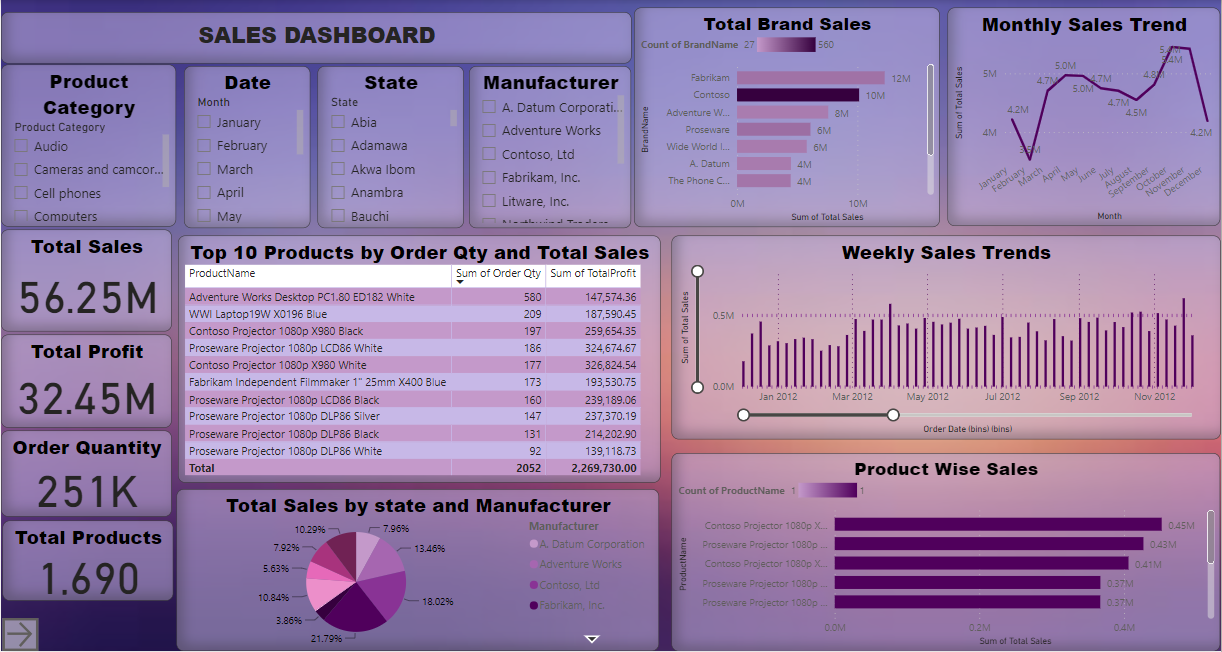

This screenshot's page, from the dashboard's own definition file:
{"tool":"powerbi","page":{"name":"Sales Dashboard with Navigator","canvas":[1500,800],"ordinal":0},"visuals":[{"type":"card","title":"Total Sales","fields":{"Values":["Sum(SalesData.Total Sales)"]},"box":[0,282.6,210.2,125.4],"z":0},{"type":"card","title":"Total Profit","fields":{"Values":["Sum(SalesData.TotalProfit)"]},"box":[0,411.5,210.2,114.8],"z":1000},{"type":"card","title":"Order Quantity ","fields":{"Values":["Sum(SalesData.Order Qty)"]},"box":[0,529.8,210.2,106],"z":2000},{"type":"card","title":"Total Products","fields":{"Values":["CountNonNull(SalesProduct.ProductName)"]},"box":[1.8,639.3,210.2,98.9],"z":3000},{"type":"textbox","box":[0,14.1,775.3,63.6],"z":4000},{"type":"lineChart","title":"Monthly Sales Trend","fields":{"Category":["SalesData.Order Date.Variation.Date Hierarchy.Month"],"Y":["Sum(SalesData.Total Sales)"]},"box":[1163.8,8.8,335.5,268.4],"z":5000},{"type":"lineStackedColumnComboChart","title":"Weekly Sales Trends","fields":{"Category":["SalesData.Order Date (bins) (bins)"],"Y":["Sum(SalesData.Total Sales)"]},"box":[824.4,289.6,675,250.8],"z":6000},{"type":"pivotTable","title":"Top 10 Products by Order Qty and Total Sales","fields":{"Rows":["SalesProduct.ProductName"],"Values":["Sum(SalesData.Order Qty)","Sum(SalesData.TotalProfit)"]},"box":[217.2,289.6,593.4,303.8],"z":7000},{"type":"barChart","title":"Product Wise Sales","fields":{"Category":["SalesProduct.ProductName"],"Y":["Sum(SalesData.Total Sales)"]},"box":[824.7,556.3,674.6,243.7],"z":8000},{"type":"barChart","title":"Total Brand Sales","fields":{"Category":["SalesProduct.BrandName"],"Y":["Sum(SalesData.Total Sales)"]},"box":[778.8,8.8,376.2,270.2],"z":9000},{"type":"slicer","title":"Date","fields":{"Values":["SalesData.Order Date.Variation.Date Hierarchy.Month"]},"box":[224.3,81.2,155.4,199.6],"z":10000},{"type":"slicer","title":"Product Category","fields":{"Values":["ProductSubCategory.Product Category"]},"box":[0,79.5,215.5,199.6],"z":11000},{"type":"slicer","title":"State","fields":{"Values":["SalesState.State"]},"box":[388.5,81.2,180.1,199.6],"z":12000},{"type":"slicer","title":"Manufacturer","fields":{"Values":["SalesProduct.Manufacturer"]},"box":[575.7,81.2,199.6,199.6],"z":13000},{"type":"pieChart","title":"Total Sales by state and Manufacturer","fields":{"Series":["SalesProduct.Manufacturer"],"Y":["Sum(SalesData.Total Sales)"]},"box":[215.5,600.4,593.4,199.6],"z":14000},{"type":"actionButton","box":[1.8,759.4,44.2,40.6],"z":15000}]}

Visuals, with their boxes in screenshot pixels (x1, y1, x2, y2), scaled from the page's 1500x800 canvas onto the 1222x652 screenshot:
"Total Sales" card: x1=0, y1=230, x2=171, y2=333
"Total Profit" card: x1=0, y1=335, x2=171, y2=429
"Order Quantity " card: x1=0, y1=432, x2=171, y2=518
"Total Products" card: x1=1, y1=521, x2=173, y2=602
textbox: x1=0, y1=11, x2=632, y2=63
"Monthly Sales Trend" lineChart: x1=948, y1=7, x2=1221, y2=226
"Weekly Sales Trends" lineStackedColumnComboChart: x1=672, y1=236, x2=1221, y2=440
"Top 10 Products by Order Qty and Total Sales" pivotTable: x1=177, y1=236, x2=660, y2=484
"Product Wise Sales" barChart: x1=672, y1=453, x2=1221, y2=651
"Total Brand Sales" barChart: x1=634, y1=7, x2=941, y2=227
"Date" slicer: x1=183, y1=66, x2=309, y2=229
"Product Category" slicer: x1=0, y1=65, x2=176, y2=227
"State" slicer: x1=316, y1=66, x2=463, y2=229
"Manufacturer" slicer: x1=469, y1=66, x2=632, y2=229
"Total Sales by state and Manufacturer" pieChart: x1=176, y1=489, x2=659, y2=651
actionButton: x1=1, y1=619, x2=37, y2=651
